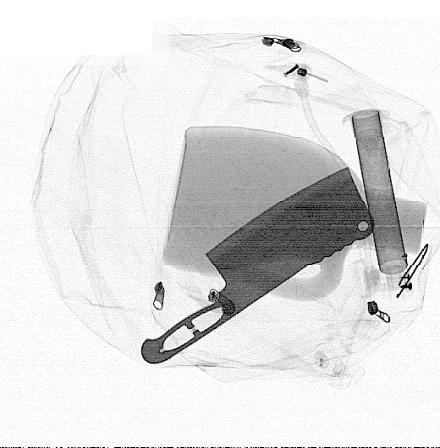Knife: (140, 165, 375, 365)
